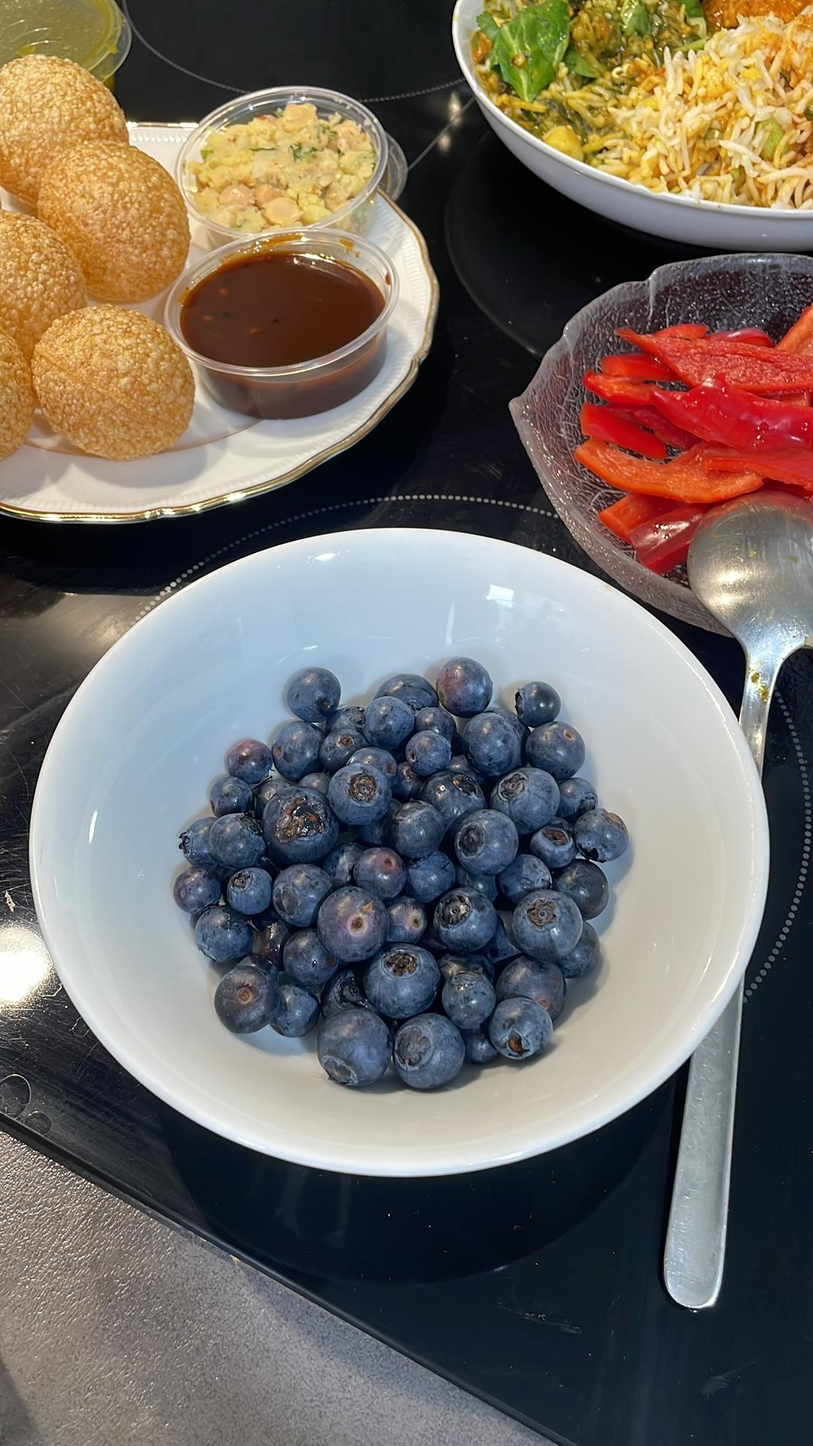bell pepper: (618, 328, 813, 403), (579, 434, 768, 501), (574, 394, 673, 465), (696, 435, 810, 490), (636, 504, 706, 571), (767, 304, 812, 358), (592, 513, 674, 539)
blueberry: (349, 938, 443, 1016), (310, 881, 391, 964), (392, 1019, 466, 1089), (512, 894, 586, 961), (449, 805, 522, 871), (324, 1005, 382, 1088), (263, 786, 323, 865), (481, 1004, 564, 1059), (429, 889, 498, 953), (211, 968, 279, 1031), (542, 911, 603, 980), (268, 863, 330, 926), (492, 773, 560, 830), (204, 811, 276, 864), (433, 972, 501, 1028), (553, 860, 618, 918), (326, 765, 390, 821), (361, 692, 422, 750), (438, 654, 496, 715), (381, 802, 446, 856), (463, 715, 522, 773), (285, 663, 343, 721), (271, 722, 331, 778), (414, 777, 482, 826), (199, 898, 250, 963), (175, 813, 225, 877), (400, 845, 455, 903), (526, 725, 586, 778), (175, 854, 224, 918), (502, 770, 557, 827), (497, 848, 558, 895), (529, 819, 584, 871), (218, 862, 271, 913), (575, 810, 629, 859), (374, 673, 441, 712), (314, 841, 366, 891), (397, 729, 454, 772), (226, 736, 274, 783), (211, 779, 265, 820), (267, 986, 312, 1035), (287, 930, 336, 974), (342, 746, 399, 783), (414, 706, 460, 750), (560, 781, 603, 826), (317, 729, 364, 767), (518, 679, 557, 722), (329, 704, 371, 735)
lettuce: (502, 0, 566, 97), (559, 44, 608, 81)
